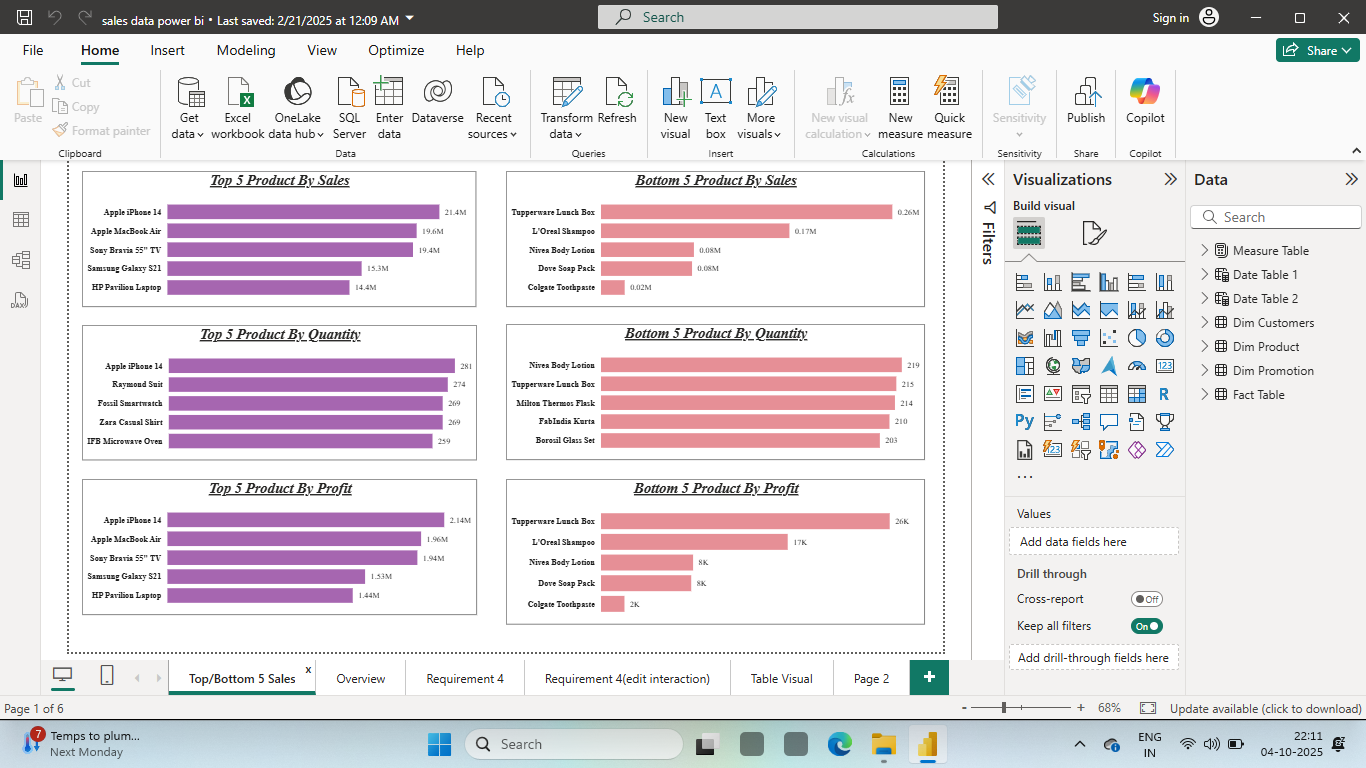

What the dashboard file says about the page in this screenshot:
{"tool":"powerbi","page":{"name":"Top/Bottom 5 Sales","canvas":[1280,720],"ordinal":0},"visuals":[{"type":"barChart","title":"   Top 5 Product By Sales","fields":{"Y":["Sum(Fact Table.Net Sales   )"],"Category":["Dim Product.Product Name"]},"box":[19,16.1,576.6,199],"z":0},{"type":"barChart","title":"   Bottom 5 Product By Sales","fields":{"Y":["Sum(Fact Table.Net Sales   )"],"Category":["Dim Product.Product Name"]},"box":[639.5,16.1,613.2,199],"z":1000},{"type":"barChart","title":"   Top 5 Product By Quantity","fields":{"Category":["Dim Product.Product Name"],"Y":["Sum(Fact Table.Units Sold)"]},"box":[18.5,241.9,577.8,198.2],"z":2000},{"type":"barChart","title":"   Bottom 5 Product By Quantity","fields":{"Category":["Dim Product.Product Name"],"Y":["Sum(Fact Table.Units Sold)"]},"box":[639.5,240,613.2,199],"z":3000},{"type":"barChart","title":"   Top 5 Product By Profit","fields":{"Category":["Dim Product.Product Name"],"Y":["Sum(Fact Table.Profit)"]},"box":[19,466.8,578,199],"z":4000},{"type":"barChart","title":"   Bottom 5 Product By Profit","fields":{"Category":["Dim Product.Product Name"],"Y":["Sum(Fact Table.Profit)"]},"box":[640,467,613.1,213.3],"z":5000}]}

Visuals, with their boxes on the page's 1280x720 design canvas (x1, y1, x2, y2). These are canvas units, not pixel positions in the 1366x768 screenshot, which may show the page scaled, cropped or inside an application window:
"   Top 5 Product By Sales" barChart: (19, 16, 596, 215)
"   Bottom 5 Product By Sales" barChart: (640, 16, 1253, 215)
"   Top 5 Product By Quantity" barChart: (18, 242, 596, 440)
"   Bottom 5 Product By Quantity" barChart: (640, 240, 1253, 439)
"   Top 5 Product By Profit" barChart: (19, 467, 597, 666)
"   Bottom 5 Product By Profit" barChart: (640, 467, 1253, 680)
